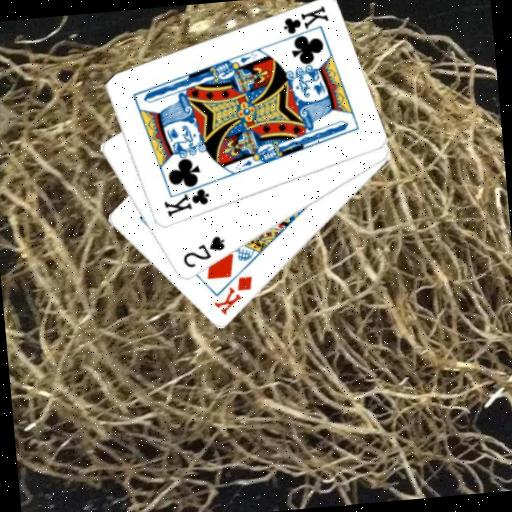2S: (178, 233, 228, 271)
KC: (276, 3, 332, 44), (159, 179, 214, 220)
KD: (209, 273, 258, 318)
